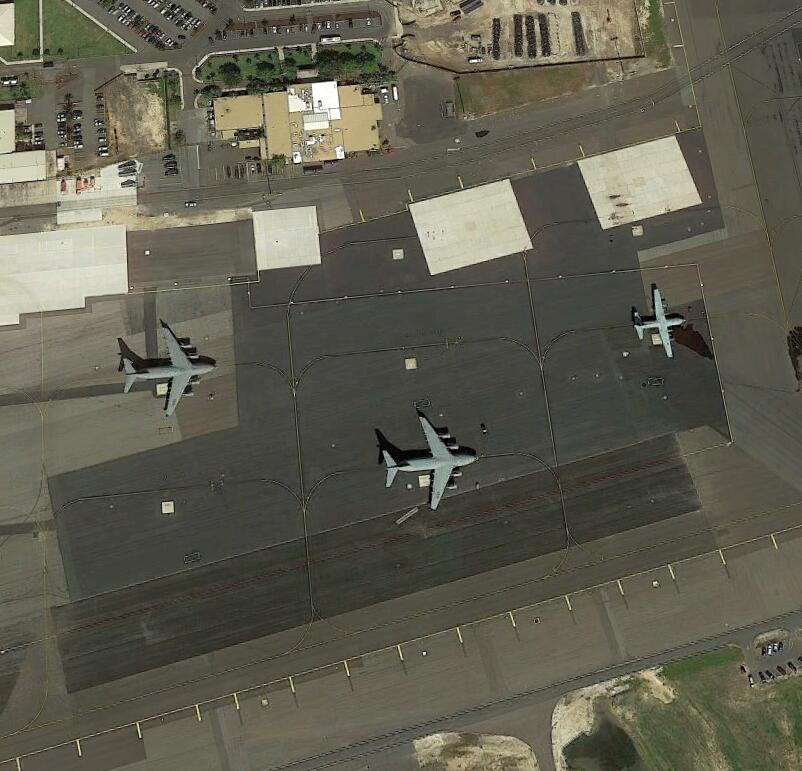A2: (631, 287, 690, 361)
A3: (380, 415, 480, 514), (120, 323, 220, 417)
